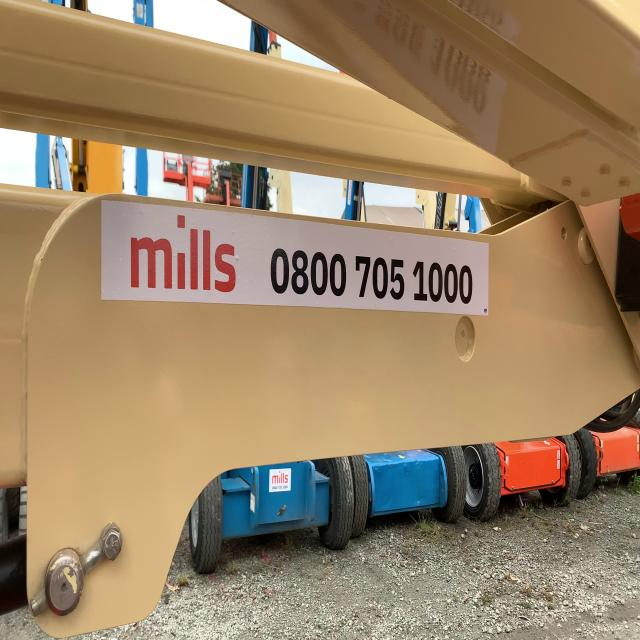Adesivo Longo: (100, 194, 492, 317)
